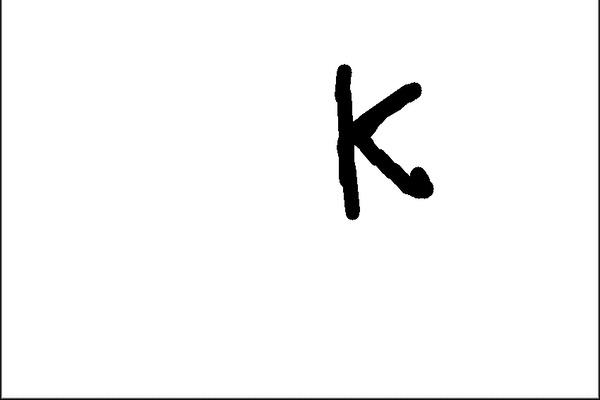K: (327, 54, 438, 226)
